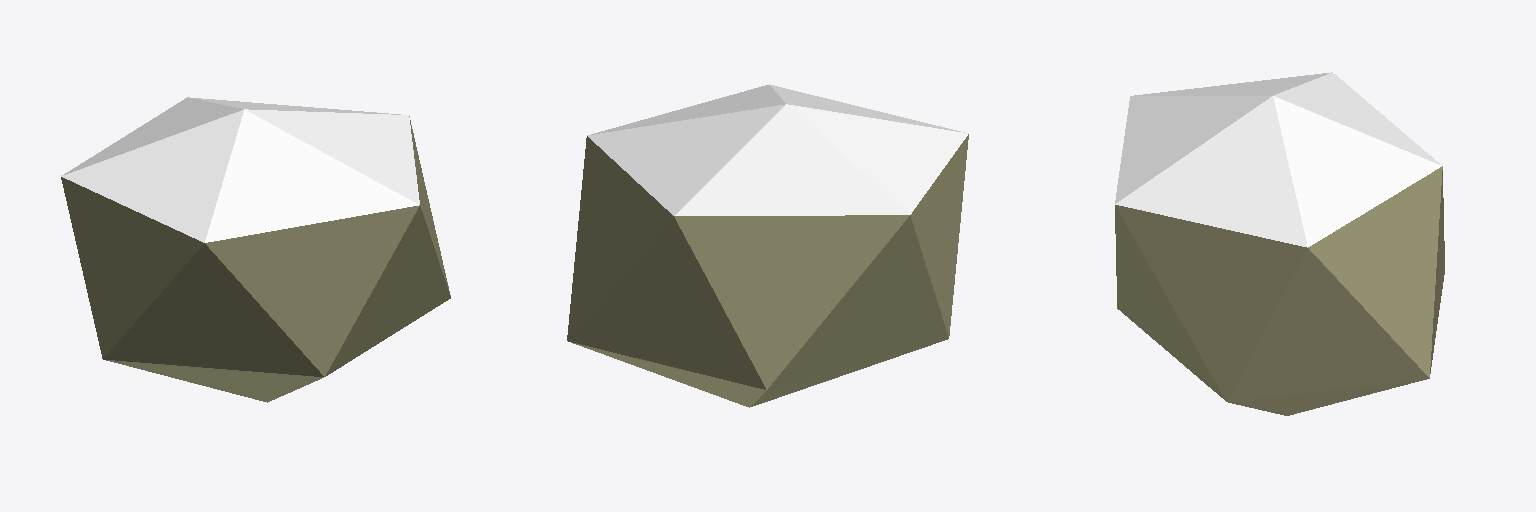
Rendered from rock5.obj.
3 views of the same model, side by side, from view 1: azimuth 30°, elevation 25°; view 2: azimuth 150°, elevation 25°; view 3: azimuth 270°, elevation 25° (orthographic).
Size of the model in its own units: 2.14 by 1.85 by 1.82.